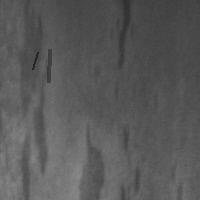inclusion: (6, 3, 49, 198), (75, 120, 105, 199), (109, 1, 136, 73), (116, 160, 142, 198), (167, 160, 188, 198), (117, 122, 133, 169), (30, 50, 39, 71), (46, 47, 51, 84)
